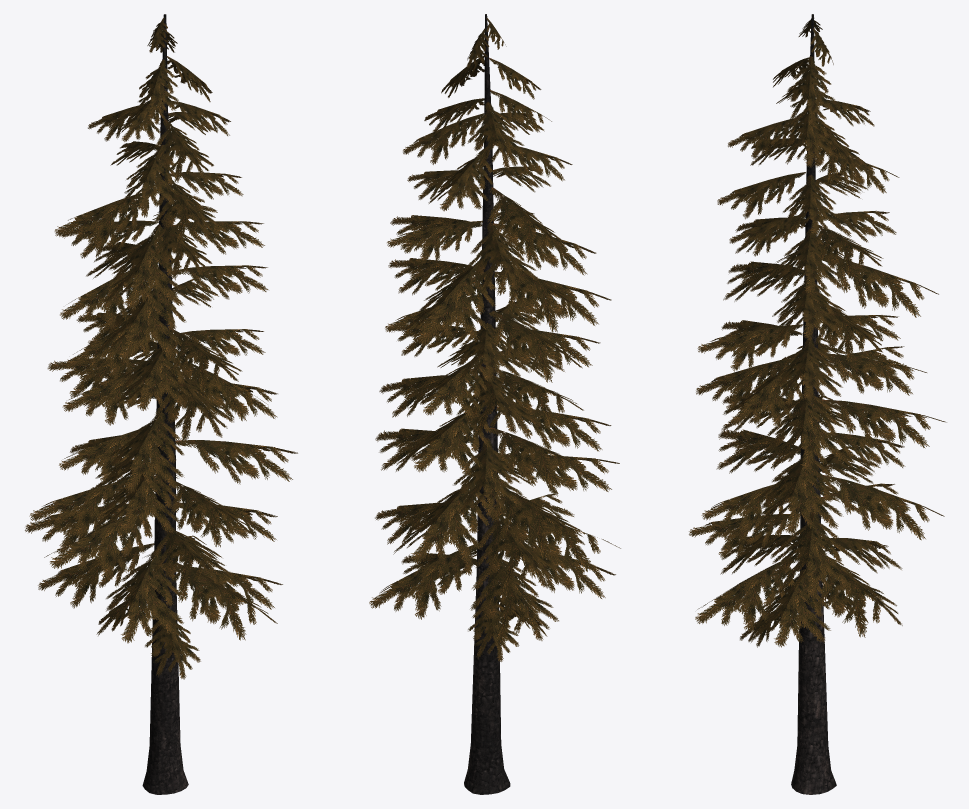
File: pine_tree_n_1.glb
3 renders of one model, left to right at view 1: azimuth 30°, elevation 25°; view 2: azimuth 150°, elevation 25°; view 3: azimuth 270°, elevation 25°, orthographic.
Parts seen in each view (by area): view 1: pine_tree_n_1_branches, pine_tree_n_1; view 2: pine_tree_n_1_branches, pine_tree_n_1; view 3: pine_tree_n_1_branches, pine_tree_n_1.
Boxes of the visible parts, box(x1,y1,x2,y2) form: pine_tree_n_1_branches: box(25, 18, 297, 679); pine_tree_n_1: box(142, 14, 188, 794); pine_tree_n_1_branches: box(369, 18, 620, 661); pine_tree_n_1: box(464, 14, 510, 794); pine_tree_n_1_branches: box(689, 18, 946, 647); pine_tree_n_1: box(791, 14, 836, 794).
Bounding box in the file's own units: 3.66 × 10.11 × 3.36.
2 materials, 2 textured.
